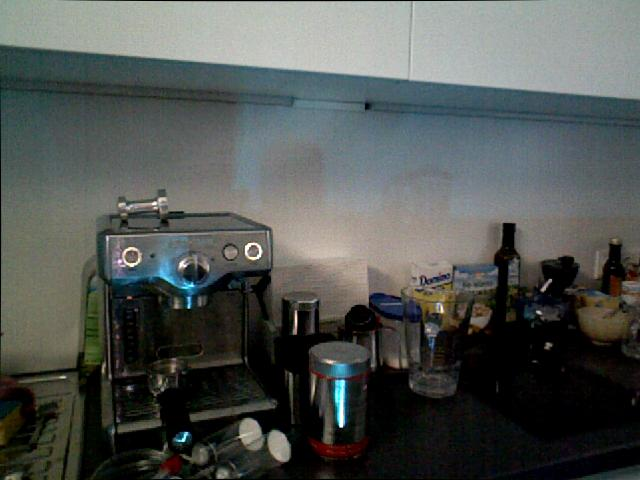bench: (75, 248, 110, 380), (493, 221, 521, 323), (601, 237, 625, 297)
bird: (572, 303, 635, 348), (451, 299, 495, 330)
handbag: (400, 286, 474, 398), (620, 311, 640, 364)
toilet: (27, 392, 61, 451), (0, 455, 43, 480)
